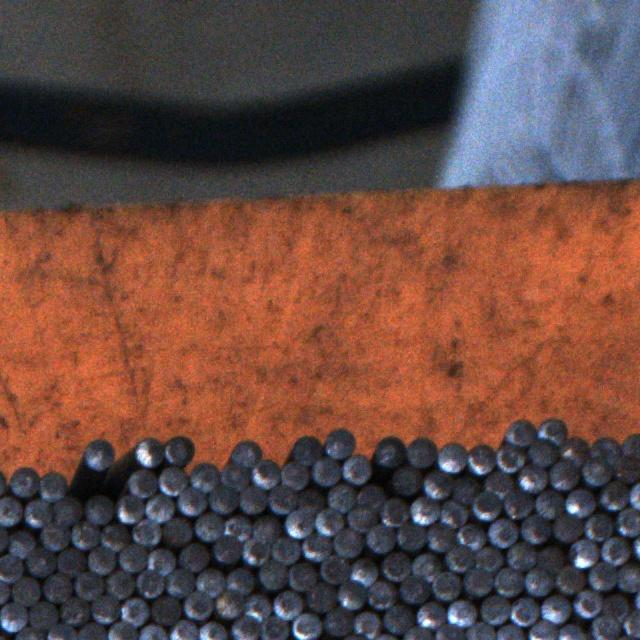tool: (530, 533, 579, 578), (9, 464, 40, 498), (272, 588, 304, 620), (412, 550, 444, 582), (178, 541, 210, 573), (372, 434, 405, 465), (405, 434, 436, 467), (83, 437, 114, 470), (42, 572, 73, 604), (196, 566, 227, 598), (249, 459, 282, 489), (323, 428, 356, 458), (240, 535, 271, 566), (600, 534, 631, 565), (162, 515, 193, 546), (366, 579, 398, 609), (430, 570, 462, 600), (582, 511, 614, 541), (378, 497, 410, 527), (564, 486, 596, 516), (208, 484, 240, 514), (290, 433, 322, 463), (437, 441, 467, 473), (150, 594, 182, 624), (134, 435, 164, 467), (250, 512, 283, 541), (446, 597, 477, 627), (336, 578, 366, 609), (399, 574, 430, 604), (364, 522, 395, 552), (549, 459, 579, 490), (341, 453, 371, 484), (558, 435, 588, 466), (183, 589, 214, 619), (104, 569, 135, 599), (332, 528, 364, 557), (516, 463, 548, 492), (504, 418, 536, 447), (135, 568, 164, 600), (164, 568, 196, 597), (82, 494, 114, 523), (229, 438, 262, 466), (510, 596, 540, 626), (541, 592, 571, 622), (288, 561, 318, 591), (189, 461, 219, 491), (466, 443, 496, 473), (100, 521, 130, 551), (128, 468, 158, 498), (158, 465, 188, 495), (480, 593, 509, 624), (554, 564, 585, 593), (257, 559, 288, 588), (568, 538, 599, 567), (423, 468, 452, 499), (528, 436, 559, 465), (10, 576, 41, 605), (39, 470, 68, 501), (165, 434, 194, 465), (505, 542, 537, 570), (390, 464, 422, 492), (590, 434, 622, 462), (24, 548, 56, 576), (176, 486, 208, 514), (463, 567, 493, 596), (494, 566, 523, 596), (524, 566, 553, 596), (270, 534, 299, 564), (552, 512, 582, 541), (347, 503, 377, 532), (266, 485, 296, 514), (310, 456, 340, 485), (29, 600, 59, 629), (121, 596, 150, 626), (74, 570, 104, 599), (7, 528, 37, 557), (323, 607, 354, 635), (520, 514, 551, 542), (144, 494, 175, 522), (292, 612, 324, 639), (395, 522, 427, 549), (482, 470, 514, 497), (582, 456, 611, 485), (587, 561, 616, 590), (91, 595, 120, 624), (194, 511, 223, 540), (53, 496, 82, 525), (114, 494, 143, 523), (383, 604, 413, 632), (572, 588, 602, 616), (242, 590, 272, 618), (306, 582, 336, 610), (320, 555, 350, 583), (222, 512, 252, 540), (295, 488, 325, 516), (220, 462, 248, 492), (537, 416, 567, 444), (0, 602, 28, 632), (60, 597, 90, 625), (56, 548, 86, 576), (88, 545, 116, 575), (40, 520, 70, 548), (133, 516, 161, 546), (225, 567, 256, 594), (456, 522, 488, 548), (214, 588, 243, 616), (349, 556, 378, 584), (382, 551, 410, 580), (444, 543, 473, 571), (301, 533, 330, 561), (489, 518, 518, 546), (284, 509, 313, 537), (472, 491, 500, 520), (603, 590, 632, 618), (118, 543, 146, 572), (71, 520, 100, 548), (23, 498, 52, 526), (212, 534, 242, 561), (502, 489, 532, 516), (599, 481, 629, 508), (453, 474, 480, 504), (281, 460, 308, 490), (591, 613, 621, 640), (473, 546, 504, 572), (533, 488, 564, 514), (314, 508, 342, 536), (410, 496, 438, 524), (440, 498, 468, 526), (496, 444, 524, 472), (416, 601, 445, 628), (327, 484, 356, 511), (356, 482, 386, 508), (616, 560, 640, 592), (354, 609, 381, 637), (427, 523, 455, 550), (239, 484, 266, 512), (613, 454, 640, 482), (148, 546, 175, 574), (232, 614, 260, 640), (167, 618, 199, 640), (198, 618, 230, 640), (0, 494, 22, 526), (260, 615, 288, 640), (616, 507, 640, 536), (0, 552, 23, 581), (527, 619, 557, 640), (464, 621, 496, 640), (78, 620, 108, 640), (108, 620, 137, 640), (558, 621, 588, 640), (434, 622, 464, 640), (138, 621, 166, 640), (46, 624, 78, 640), (495, 624, 525, 640), (623, 432, 640, 460), (623, 608, 640, 636), (401, 626, 432, 640), (13, 627, 46, 640)
